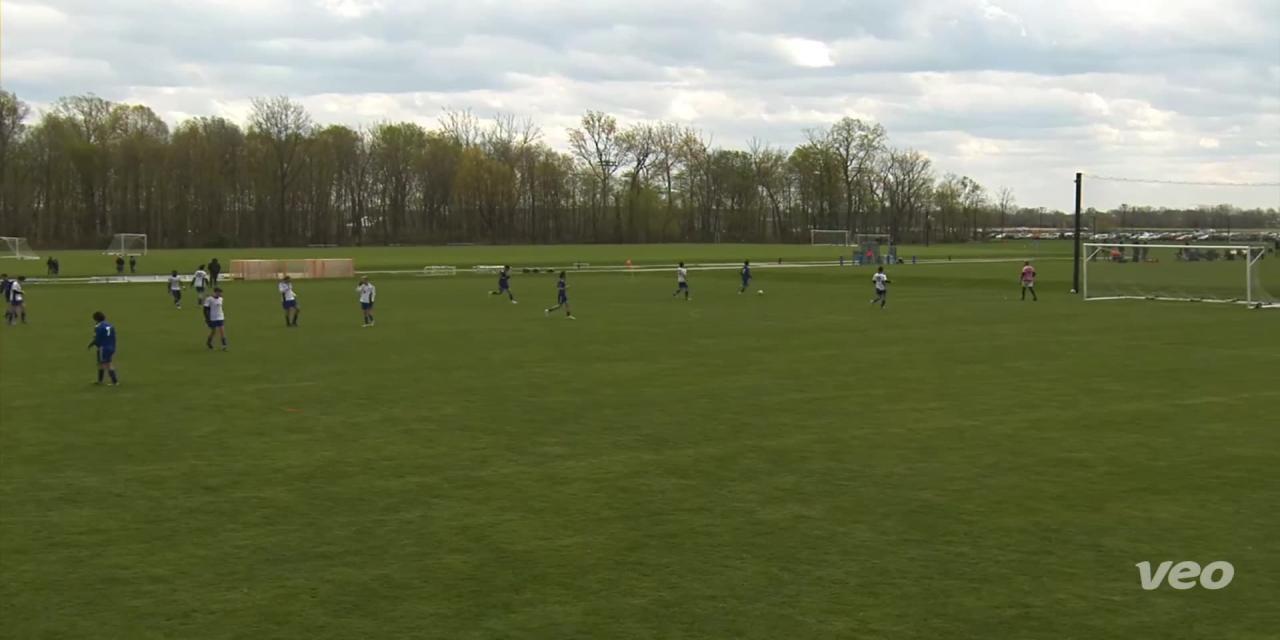goal: (1065, 230, 1280, 317)
sports ball: (755, 285, 767, 297)
